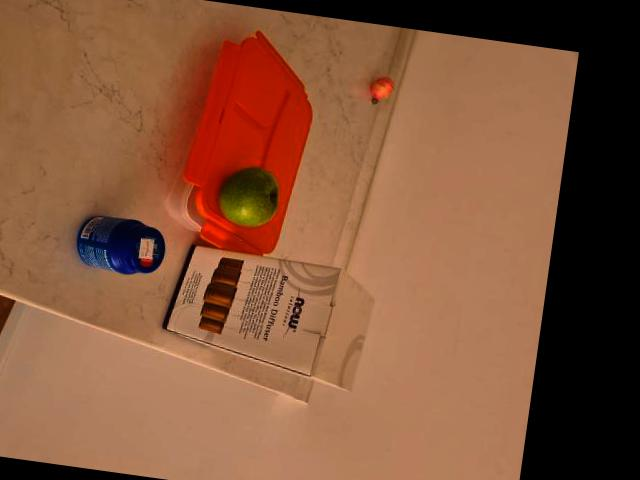apple: (213, 164, 284, 236)
